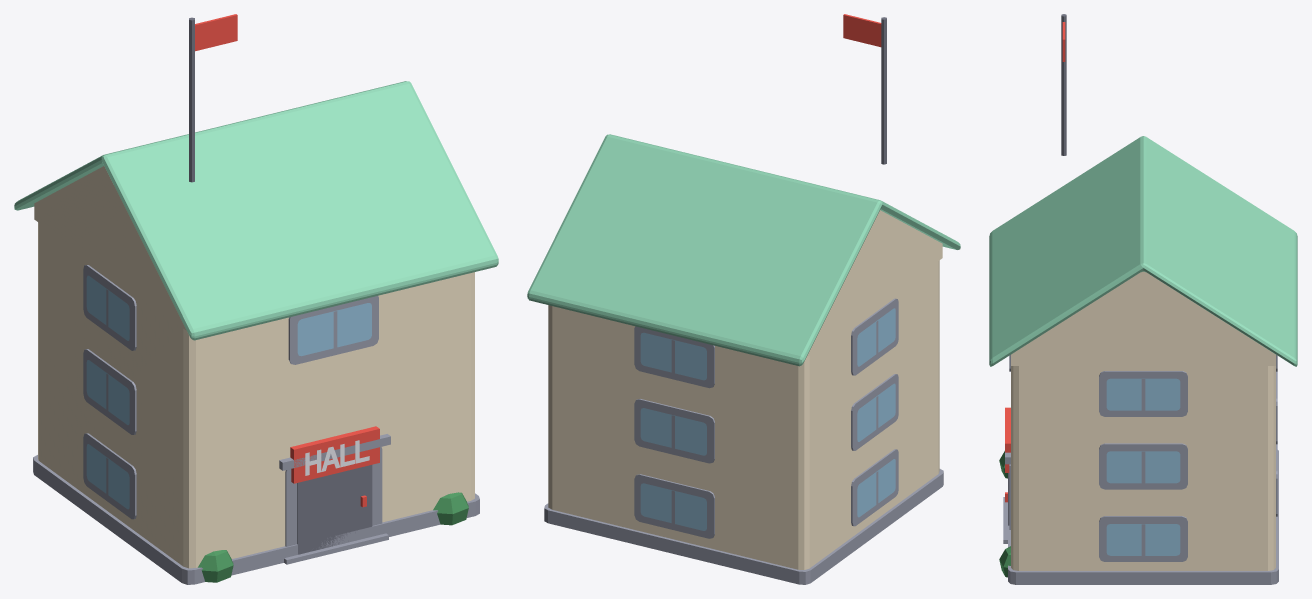
Rendered from community-hall-1x1-3f.glb.
The picture shows the model from 3 angles, left to right: view 1: azimuth 30°, elevation 25°; view 2: azimuth 150°, elevation 25°; view 3: azimuth 270°, elevation 25°; orthographic projection. The views are drawn at different scales.
Parts seen in each view (by area): view 1: community-hall-1x1-3f; view 2: community-hall-1x1-3f; view 3: community-hall-1x1-3f.
Part boxes in pixels (<box>): community-hall-1x1-3f: <box>14,14,498,584</box>; community-hall-1x1-3f: <box>527,14,960,584</box>; community-hall-1x1-3f: <box>989,14,1297,584</box>.
Bounding box in the file's own units: 1 × 1.65 × 1.
Materials: 1 (1 with a texture image).
